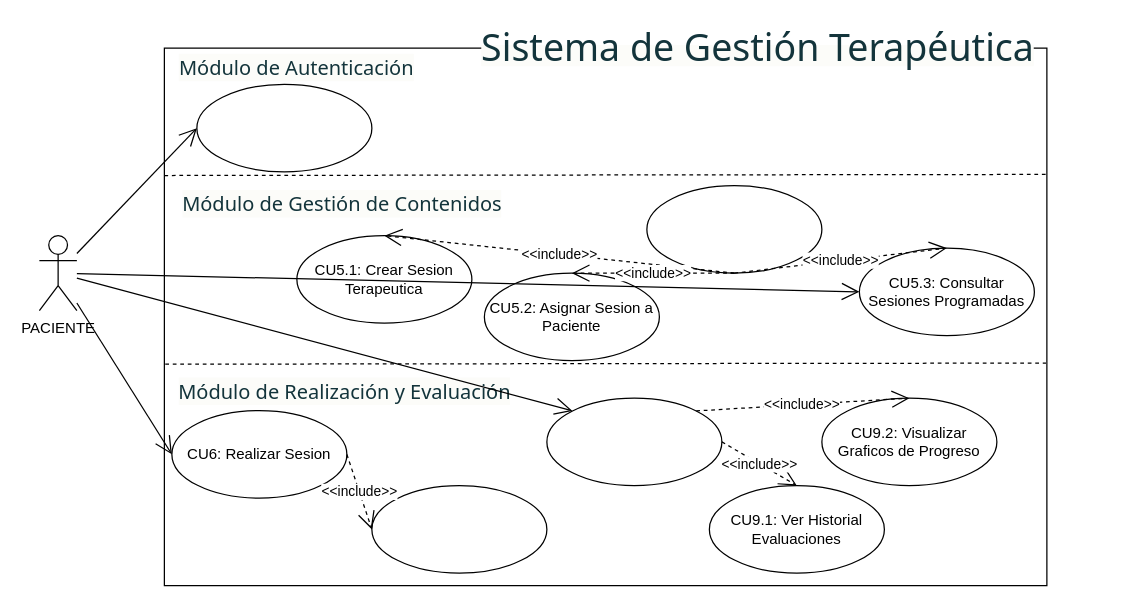
Image size: 1129x608. Some labels were removed from this diagram. Here are the shapes that lost their labels. From the top down, the centre of each, then its label:
pixel 284 127: CU1: Iniciar Sesión
pixel 734 228: CU5: Gestionar Sesiones
pixel 634 441: CU9: Consultar Progreso
pixel 459 528: CU7: Grabar Respuesta Ejercicio
